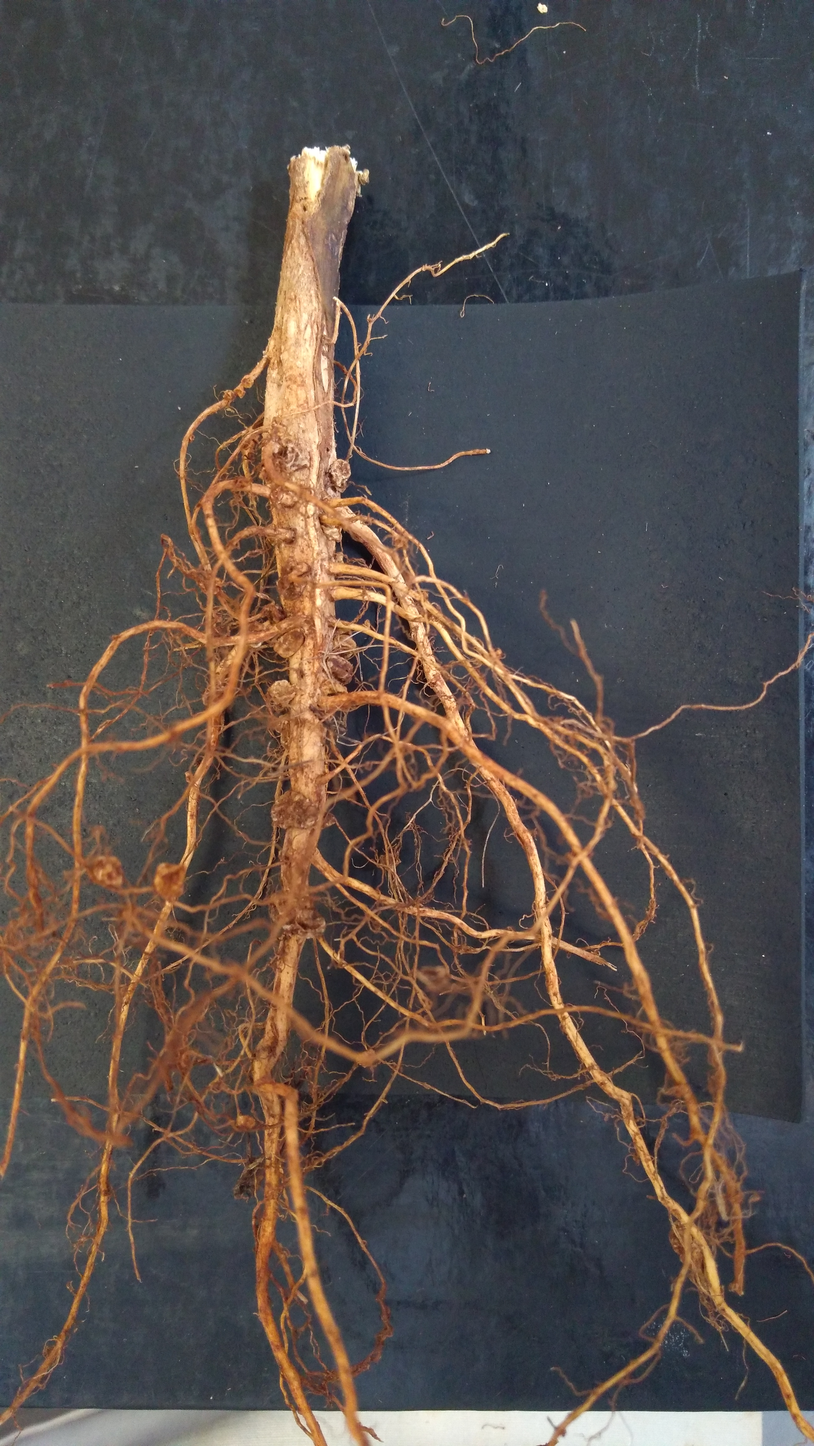nodule: (267, 788, 320, 834), (152, 858, 188, 909), (289, 904, 330, 945), (89, 852, 126, 889), (271, 625, 307, 660), (266, 677, 299, 713), (327, 456, 355, 495), (325, 653, 355, 686), (321, 678, 348, 709), (329, 633, 358, 661), (319, 520, 347, 545), (234, 1114, 259, 1129), (321, 809, 336, 831), (241, 373, 257, 389), (221, 387, 236, 403), (257, 465, 268, 483), (234, 387, 248, 399), (360, 618, 372, 631), (334, 549, 344, 562), (189, 433, 196, 443)
